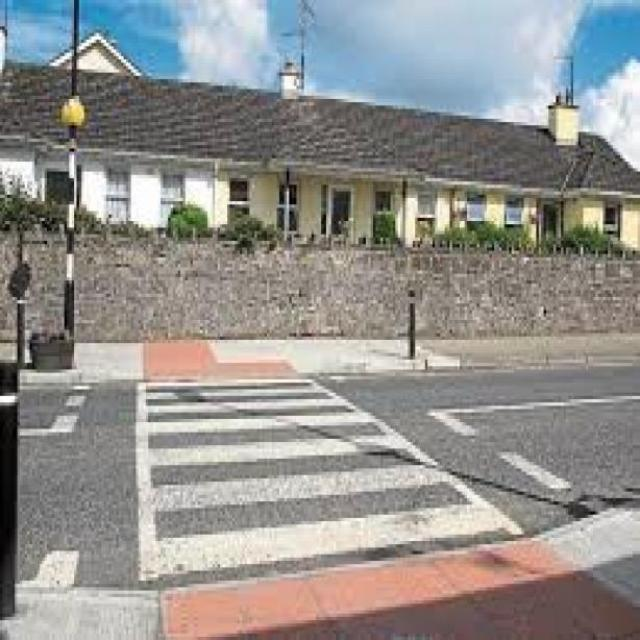pedestrian lane: (137, 378, 518, 577)
